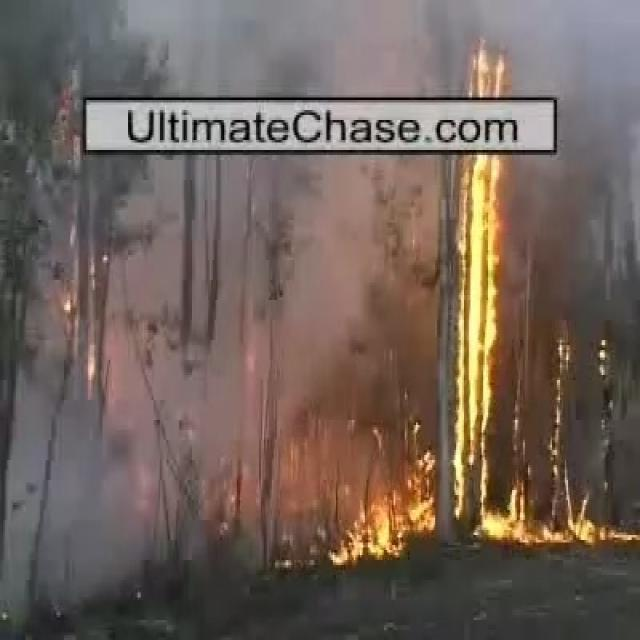Fire: (454, 161, 506, 524), (332, 481, 434, 564), (482, 488, 550, 542)
